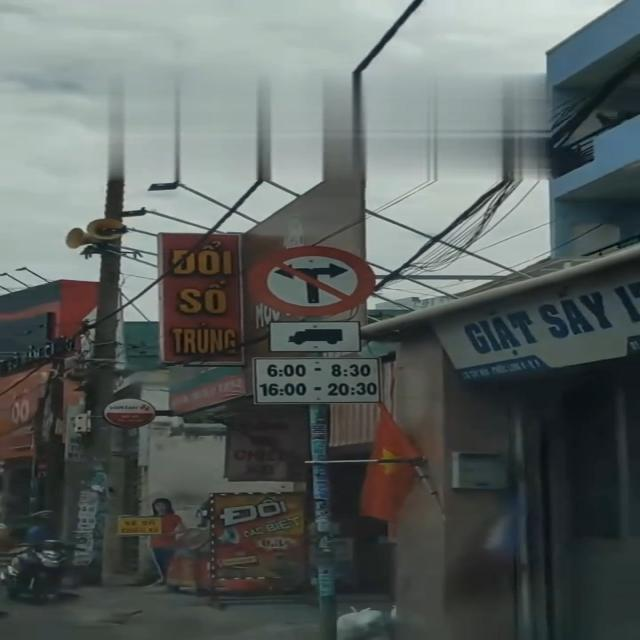137-cam-re-trai-va-re-phai: (252, 242, 372, 313)
